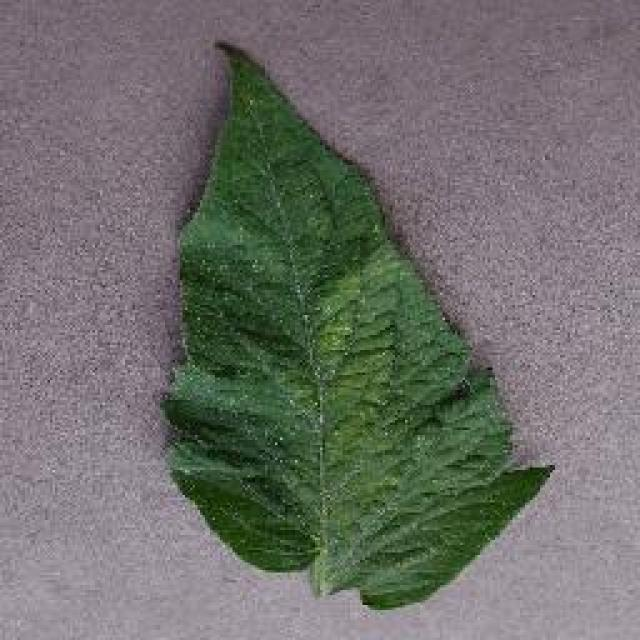Tomato___Spider_mites Two-spotted_spider_mite: (162, 45, 548, 605)
